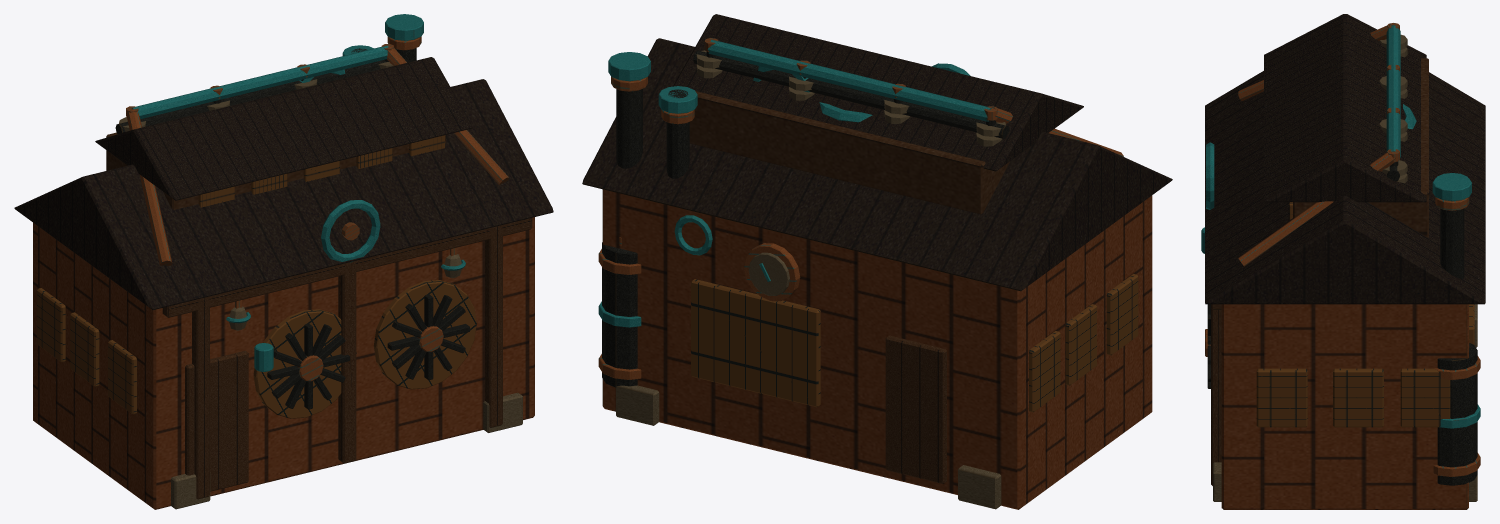
The model's file is dynamo-hall.e3.glb.
The picture shows the model from 3 angles, left to right: view 1: azimuth 30°, elevation 25°; view 2: azimuth 150°, elevation 25°; view 3: azimuth 270°, elevation 25°; orthographic projection. The views are drawn at different scales.
Parts seen in each view (by area): view 1: DynamoHallE3; view 2: DynamoHallE3; view 3: DynamoHallE3.
Part boxes in pixels (x1,y1,x2,y2): DynamoHallE3: (14, 14, 553, 509); DynamoHallE3: (582, 14, 1172, 509); DynamoHallE3: (1201, 14, 1485, 509).
Bounding box in the file's own units: 5.38 × 4.15 × 3.24.
Materials: 1 (1 with a texture image).
